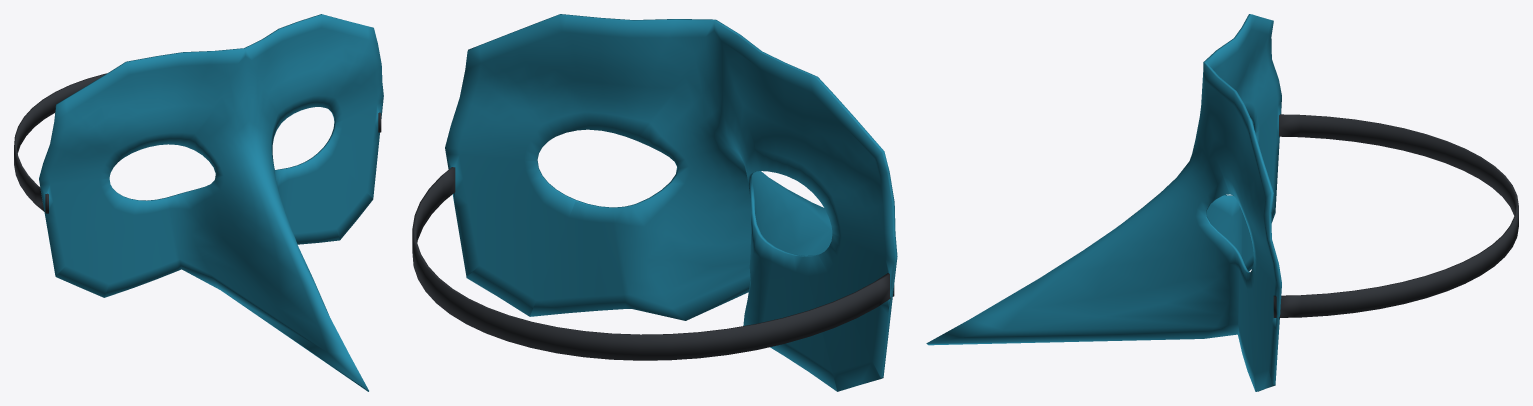
3 views of the same model, side by side, from view 1: azimuth 30°, elevation 25°; view 2: azimuth 150°, elevation 25°; view 3: azimuth 270°, elevation 25° (orthographic). The views are drawn at different scales.
Parts seen in each view (by area): view 1: Closed mask shell and rear strap assembly; view 2: Closed mask shell and rear strap assembly; view 3: Closed mask shell and rear strap assembly.
Boxes of the visible parts, x1=… form: Closed mask shell and rear strap assembly: x1=14, y1=14, x2=383, y2=391; Closed mask shell and rear strap assembly: x1=412, y1=14, x2=897, y2=391; Closed mask shell and rear strap assembly: x1=926, y1=14, x2=1518, y2=391.
Bounding box in the file's own units: 0.228 × 0.16 × 0.3037.
